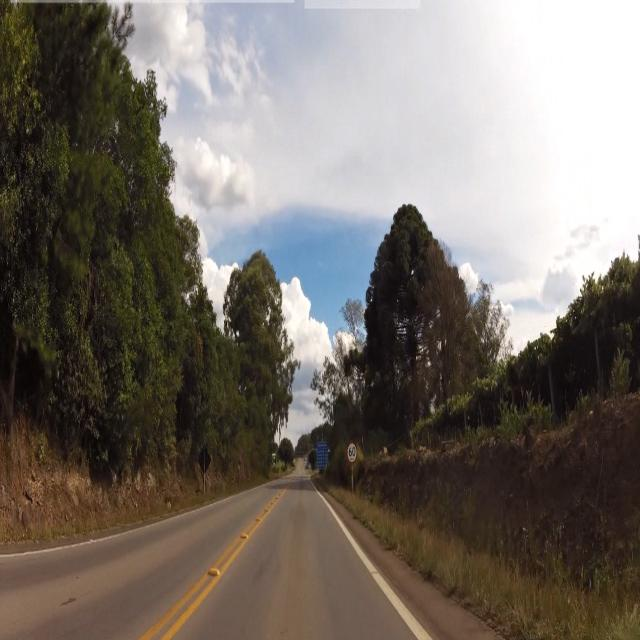R-19: (344, 441, 359, 463)
